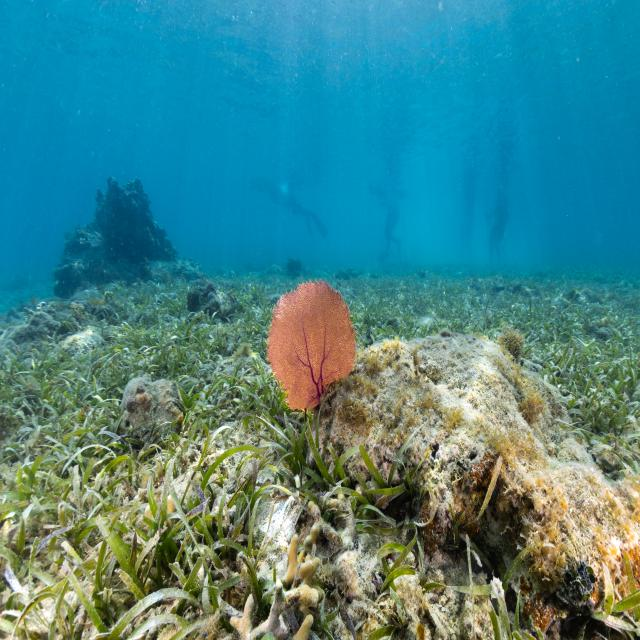Coral: (267, 278, 356, 412), (230, 534, 321, 640), (303, 484, 362, 551)
